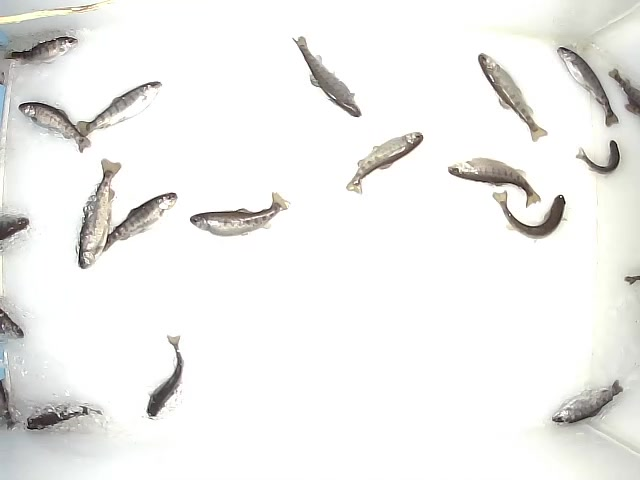fish: (474, 53, 548, 143), (288, 34, 361, 117), (74, 77, 165, 141), (554, 45, 620, 130), (97, 189, 180, 255), (76, 156, 123, 272), (186, 188, 291, 238), (446, 154, 542, 207), (346, 132, 424, 194), (489, 188, 568, 239), (550, 375, 626, 426), (144, 331, 187, 421), (19, 102, 91, 153), (3, 34, 80, 71), (26, 400, 105, 432), (576, 137, 623, 176)
